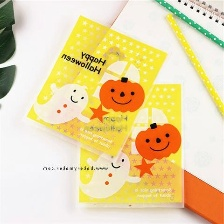snack: (18, 8, 173, 165), (69, 76, 191, 213)
